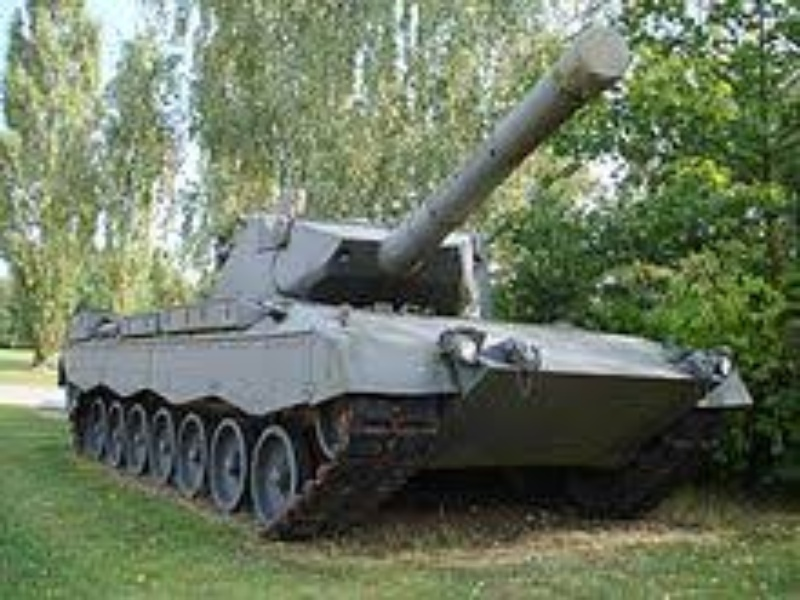tank: (60, 27, 759, 543)
